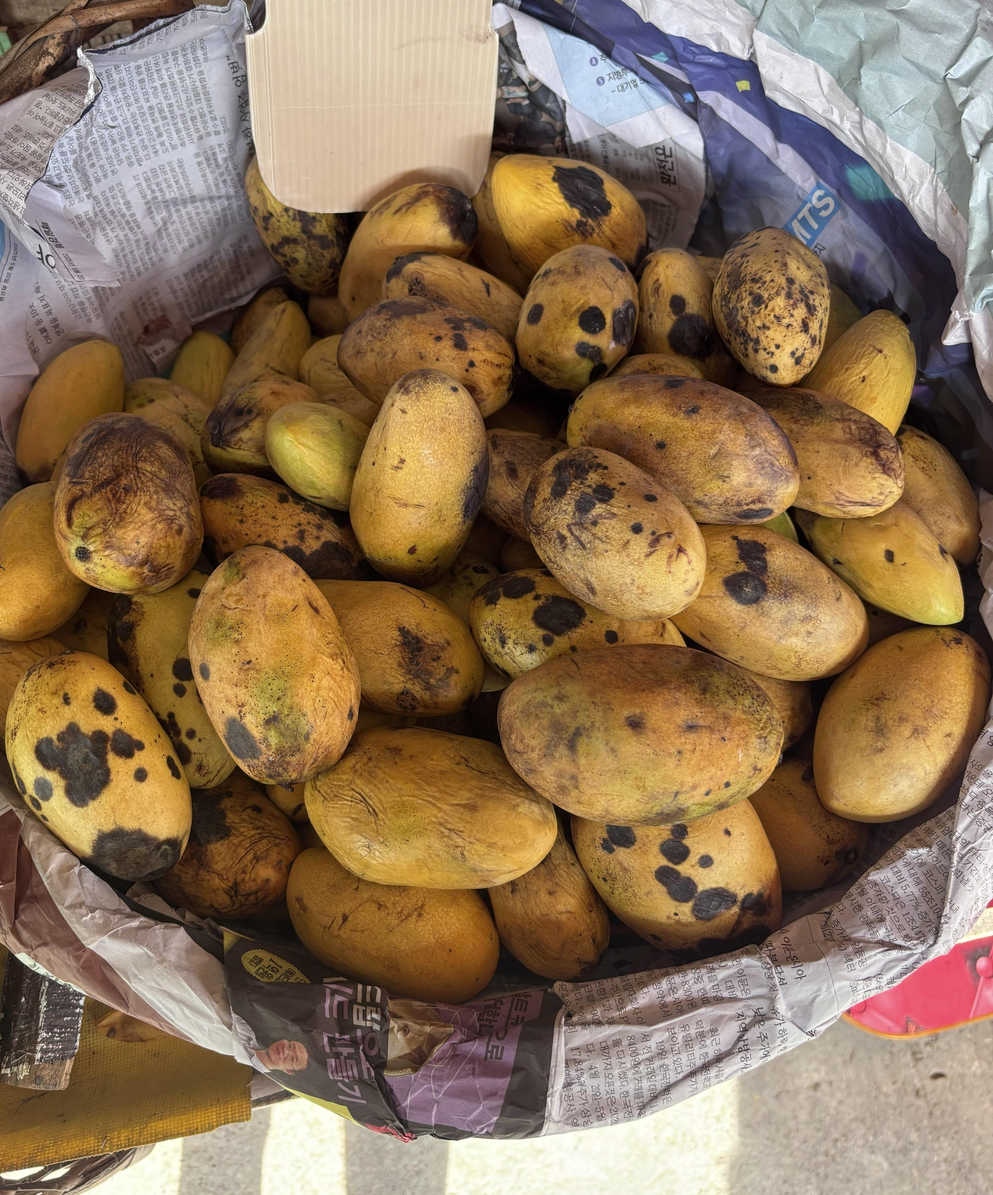mango: (498, 644, 783, 826), (5, 652, 192, 881), (188, 546, 360, 784), (813, 626, 990, 823), (523, 447, 706, 621), (350, 369, 489, 586), (53, 413, 203, 593), (712, 227, 830, 386)
occluded: (306, 727, 557, 889), (566, 372, 800, 524), (571, 799, 781, 958), (287, 847, 499, 1003), (673, 525, 869, 681), (350, 369, 489, 586), (108, 562, 235, 789), (469, 569, 685, 680), (316, 580, 485, 717), (154, 770, 302, 920), (338, 297, 518, 418), (798, 500, 963, 624), (752, 386, 904, 517), (338, 183, 477, 319), (200, 473, 375, 580), (516, 245, 638, 398), (489, 826, 610, 980), (491, 155, 647, 273), (749, 759, 869, 892), (16, 340, 124, 483), (0, 482, 89, 641), (802, 310, 916, 433), (245, 158, 347, 295), (380, 253, 523, 341), (896, 425, 980, 565), (265, 402, 369, 511), (202, 378, 317, 473), (124, 378, 211, 486), (482, 429, 564, 540), (636, 248, 716, 359), (222, 301, 310, 397), (0, 636, 67, 747), (740, 668, 814, 752), (425, 551, 501, 625), (170, 331, 235, 410), (230, 287, 289, 355), (299, 335, 355, 400), (824, 283, 862, 351), (614, 353, 706, 379), (327, 387, 378, 429), (307, 294, 350, 338), (266, 782, 308, 822), (756, 511, 798, 543)
